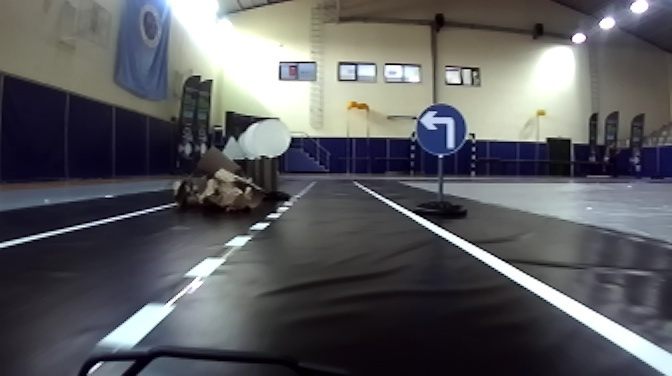sola_donus: (417, 97, 469, 160)
